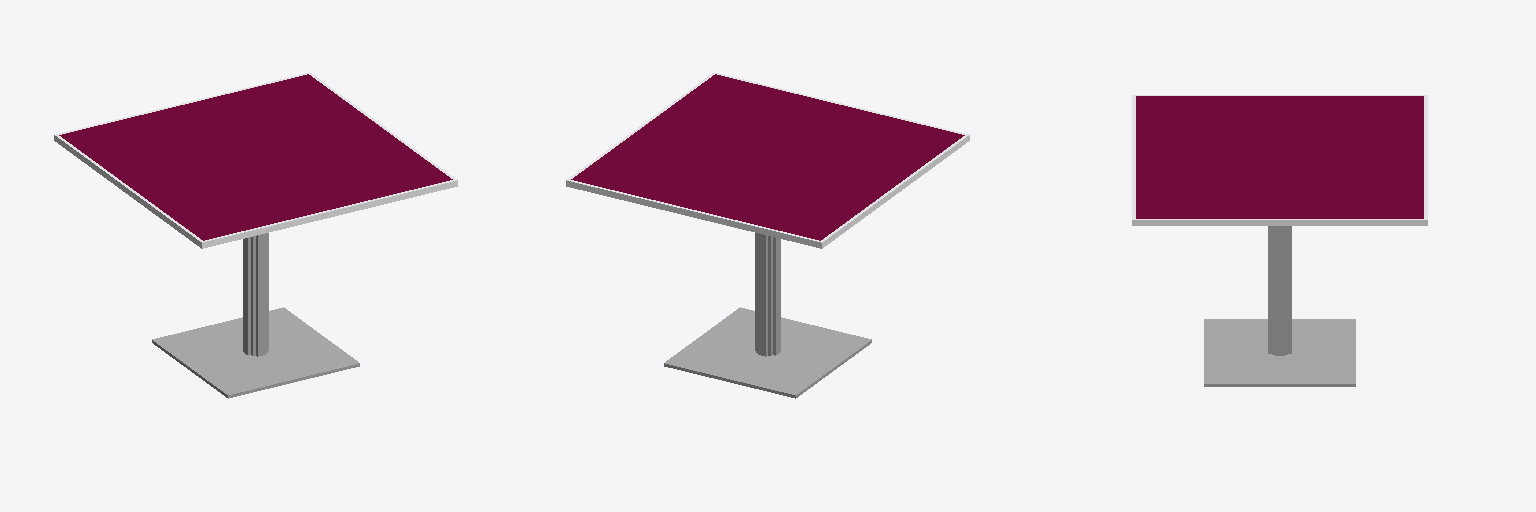
3 renders of one model, left to right at view 1: azimuth 30°, elevation 25°; view 2: azimuth 150°, elevation 25°; view 3: azimuth 270°, elevation 25°, orthographic.
Visible parts, largest first — view 1: object 1; view 2: object 1; view 3: object 1.
Boxes of the visible parts, box(x1,y1,x2,y2) form: object 1: box(54, 72, 457, 398); object 1: box(566, 72, 969, 398); object 1: box(1132, 95, 1427, 386).
Size of the model in its own units: 8.7 by 6.4 by 8.7.
1 materials, 1 textured.